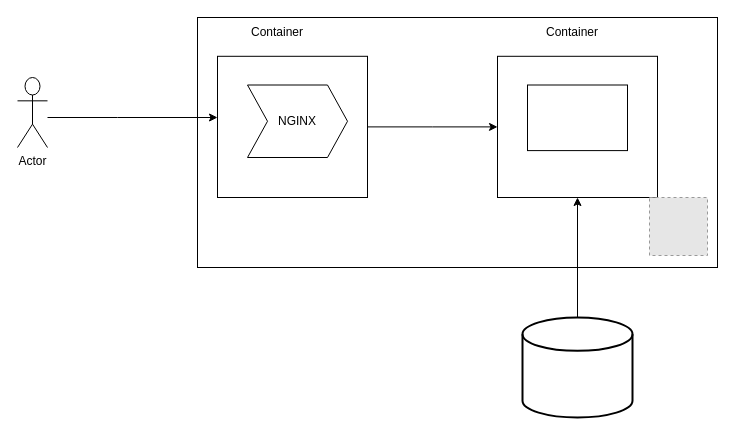
This 735x436 diagram has some shape labels left out. Grey dashed boxes stand in for pictures. The centre of each missing label's shape, as x and y in pixels:
"Core API" goes at pixel 577 117.
"Postgres" goes at pixel 577 367.
